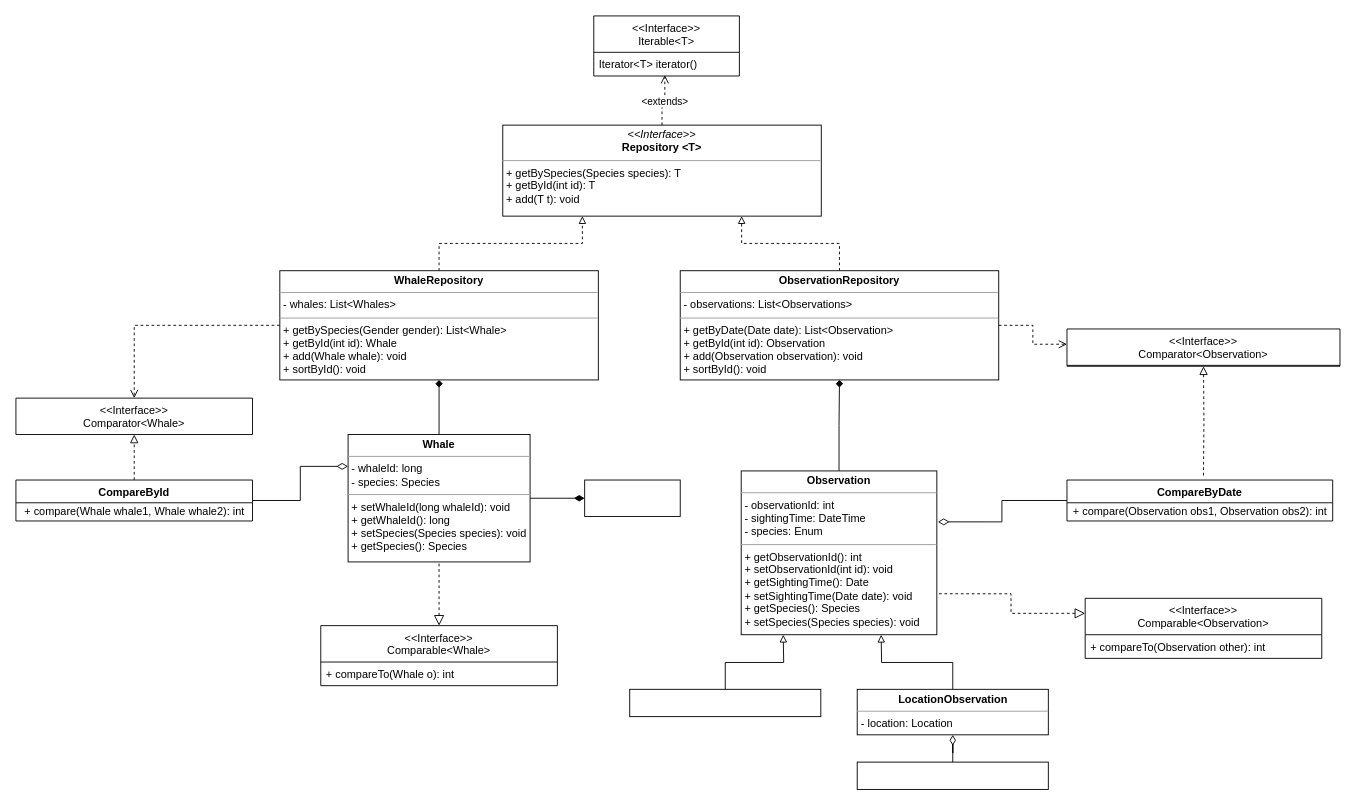
Image size: 1356x805. Some labels were removed from this diagram. Here are the shapes that lost their labels. From the top down, the centre of each, then its label:
At pixel 632 497: "Pod".
At pixel 725 702: "SimpleObservation".
At pixel 952 775: "Location".
